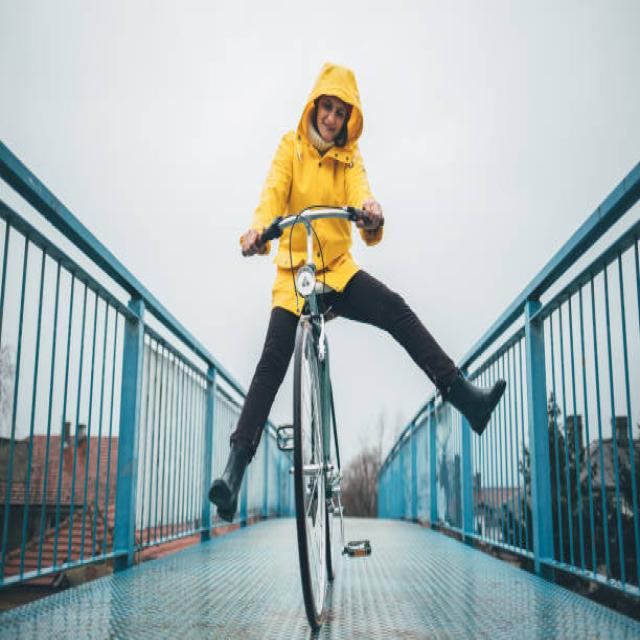bicycle: (210, 64, 505, 629)
